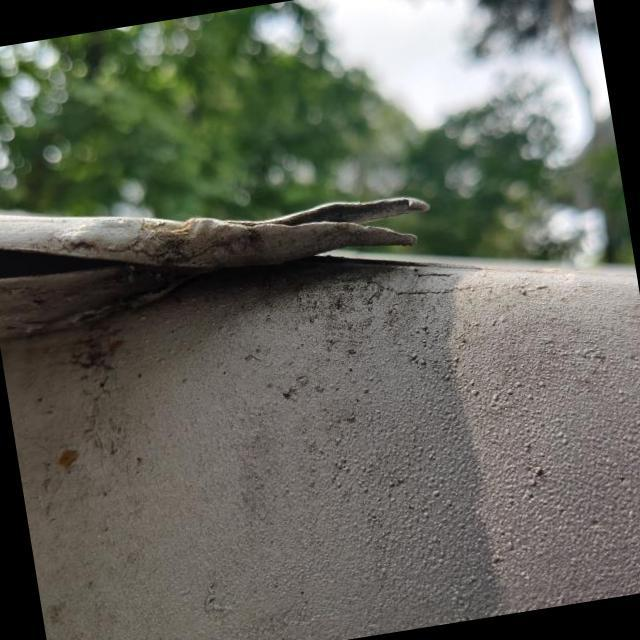Rupture: (217, 158, 450, 304)
